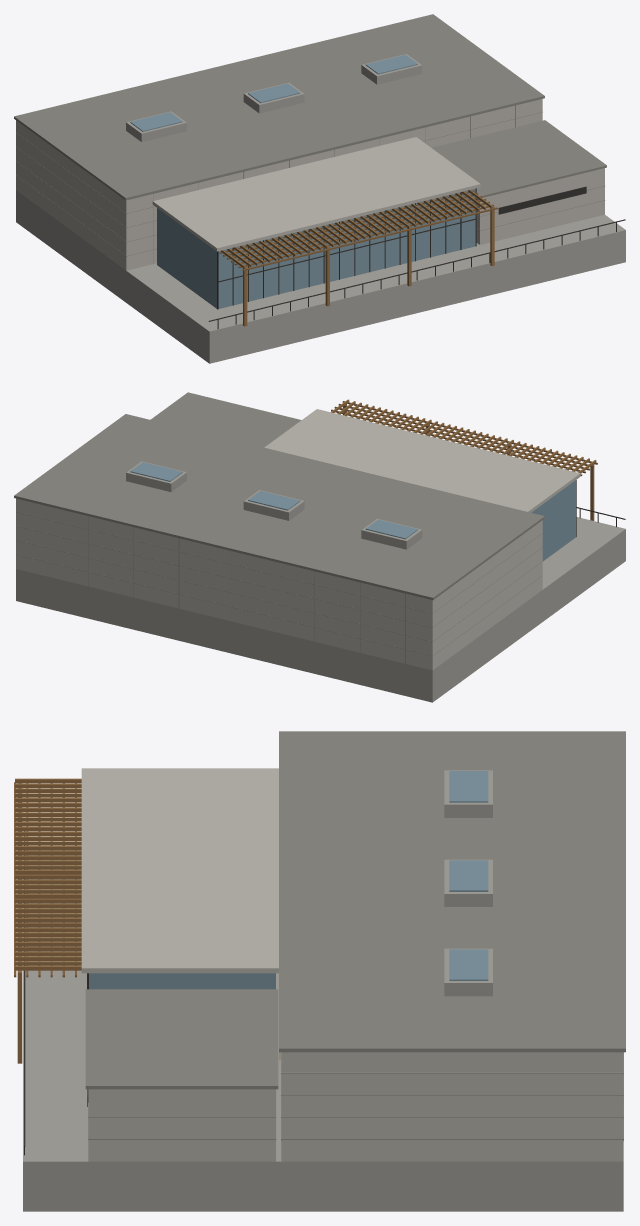
File: museum.glb
The picture shows the model from 3 angles, top to bottom: view 1: azimuth 30°, elevation 25°; view 2: azimuth 150°, elevation 25°; view 3: azimuth 270°, elevation 25°; orthographic projection. The views are drawn at different scales.
Visible parts, largest first — view 1: museum; view 2: museum; view 3: museum.
Boxes of the visible parts, x1=… form: museum: x1=14, y1=14, x2=625, y2=363; museum: x1=14, y1=392, x2=625, y2=702; museum: x1=14, y1=731, x2=625, y2=1211.
Bounding box in the file's own units: 46.3 × 12.15 × 37.7.
